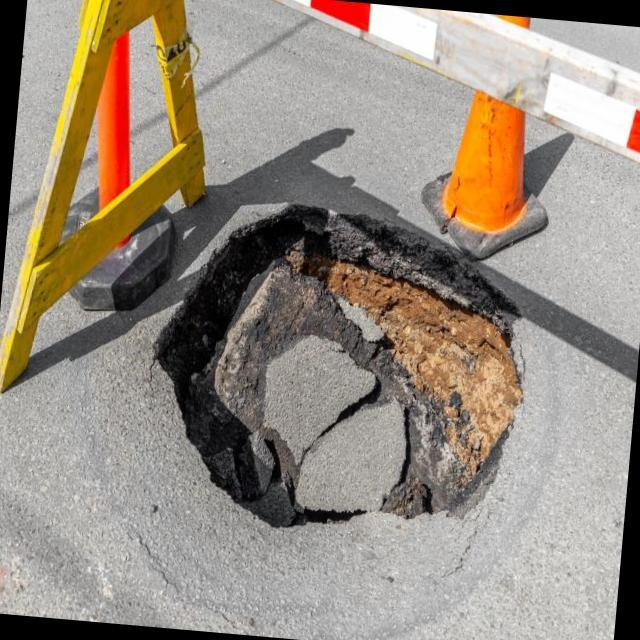Pothole: (154, 205, 523, 530)
